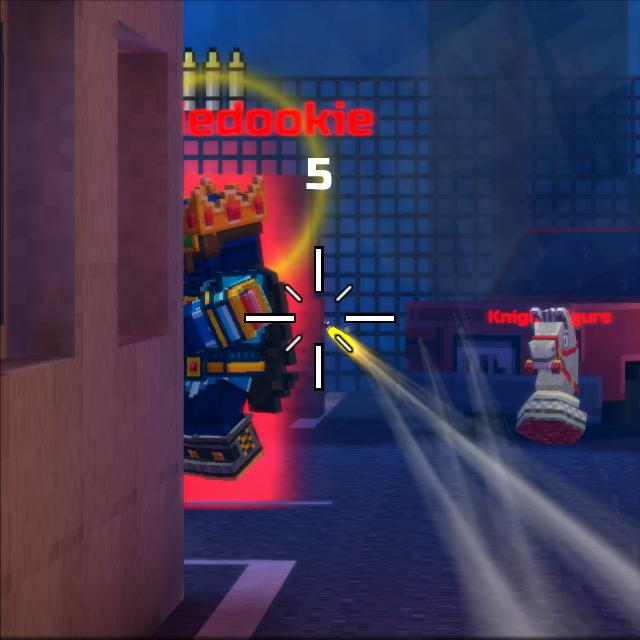Enemy: (183, 193, 273, 481)
